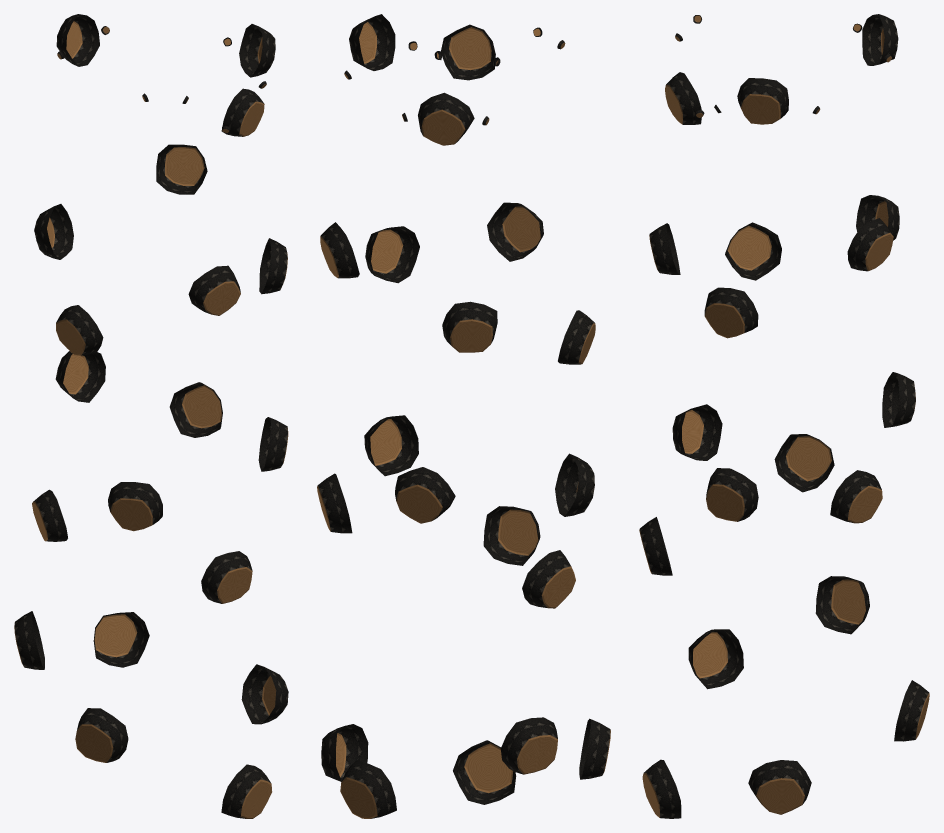
File: Sitka_Mature_01_LowPruned_Recent_LOD1.fbx
The picture shows the model from 3 angles, left to right: view 1: azimuth 30°, elevation 25°; view 2: azimuth 150°, elevation 25°; view 3: azimuth 270°, elevation 25°; orthographic projection. The views are drawn at different scales.
Parts seen in each view (by area): view 1: Sitka_Mature_01_LowPruned_Recent_LOD1_Scars; view 2: Sitka_Mature_01_LowPruned_Recent_LOD1_Scars; view 3: Sitka_Mature_01_LowPruned_Recent_LOD1_Scars.
Part boxes in pixels (x1,y1,x2,y2): Sitka_Mature_01_LowPruned_Recent_LOD1_Scars: (14, 14, 288, 818); Sitka_Mature_01_LowPruned_Recent_LOD1_Scars: (317, 14, 610, 818); Sitka_Mature_01_LowPruned_Recent_LOD1_Scars: (639, 14, 929, 818).
Size of what is drawn, in the model's own units: 135 by 403 by 138.
Materials: 2 (2 with a texture image).
